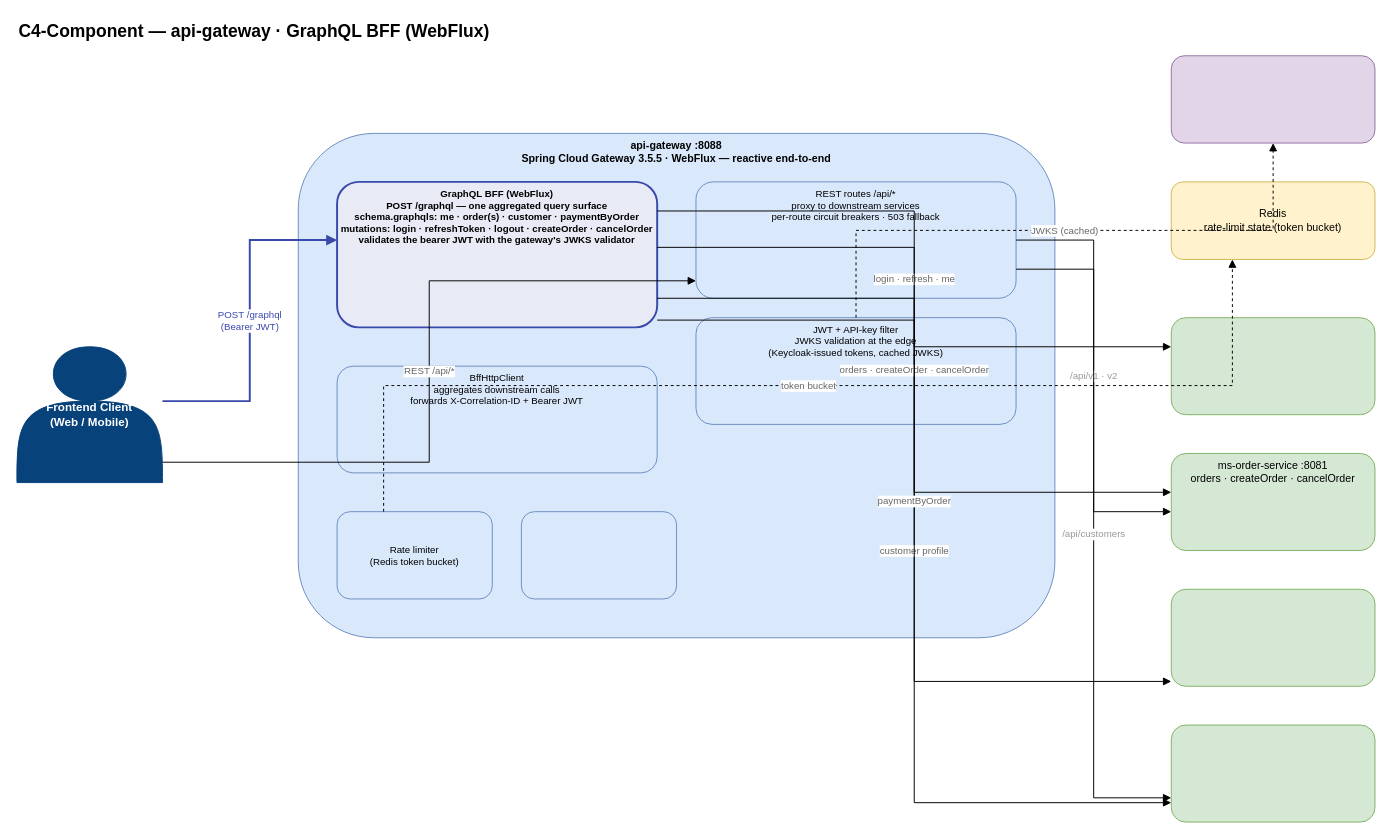
Image size: 1392x839. Some labels were removed from this diagram. Here are the shapes that lost their labels. From the top down, the centre of each, then its label:
At point (1272, 99): "Keycloak :8080 OIDC · realm auth-service MFA (TOTP) · SSO (GitHub / Google)".
At point (1272, 366): "auth-service :8082 login · register · refresh · me".
At point (598, 555): "Circuit breakers open → 503 fallback".
At point (1272, 637): "ms-payment-service :8083 paymentByOrder (read-through)".
At point (1272, 773): "ms-customer :8084 customer profile".
